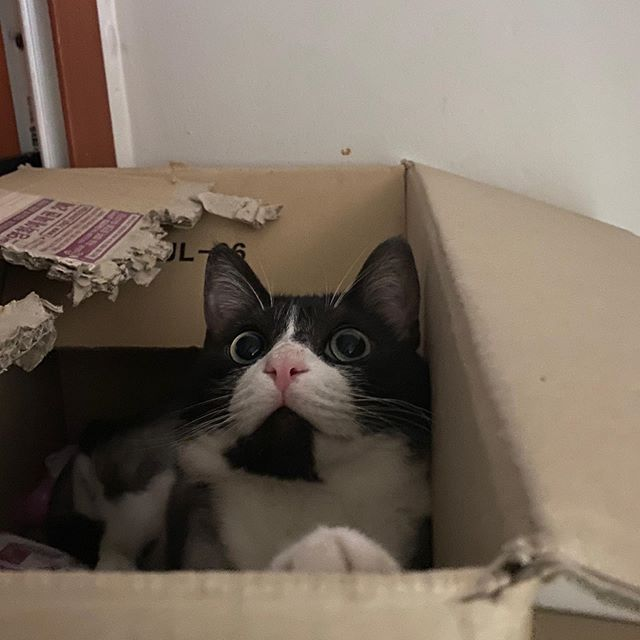cat: (187, 238, 435, 486)
